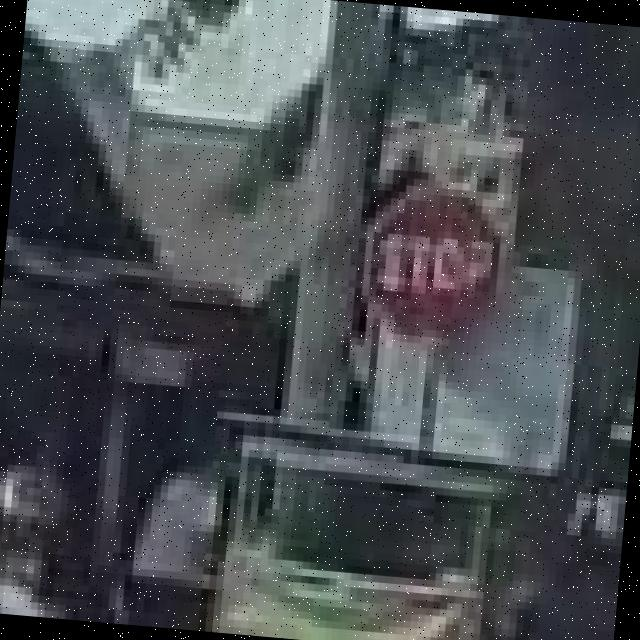Stop: (365, 182, 511, 350)
